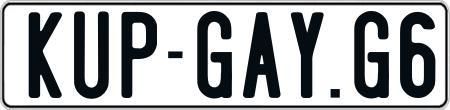6: (398, 12, 436, 102)
A: (243, 9, 282, 99)
G: (195, 11, 236, 100), (352, 8, 392, 96)
K: (28, 9, 66, 95)
P: (119, 9, 158, 101)
U: (73, 9, 108, 103)
Y: (289, 9, 324, 99)
